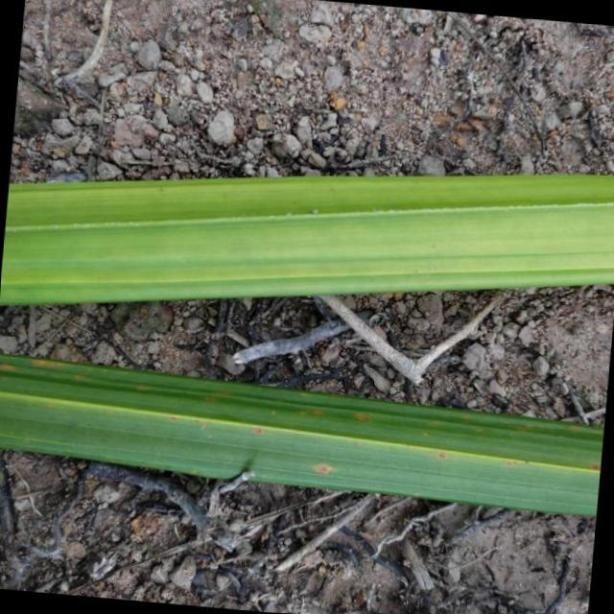nitrogen: (0, 355, 605, 516), (0, 173, 614, 307)
